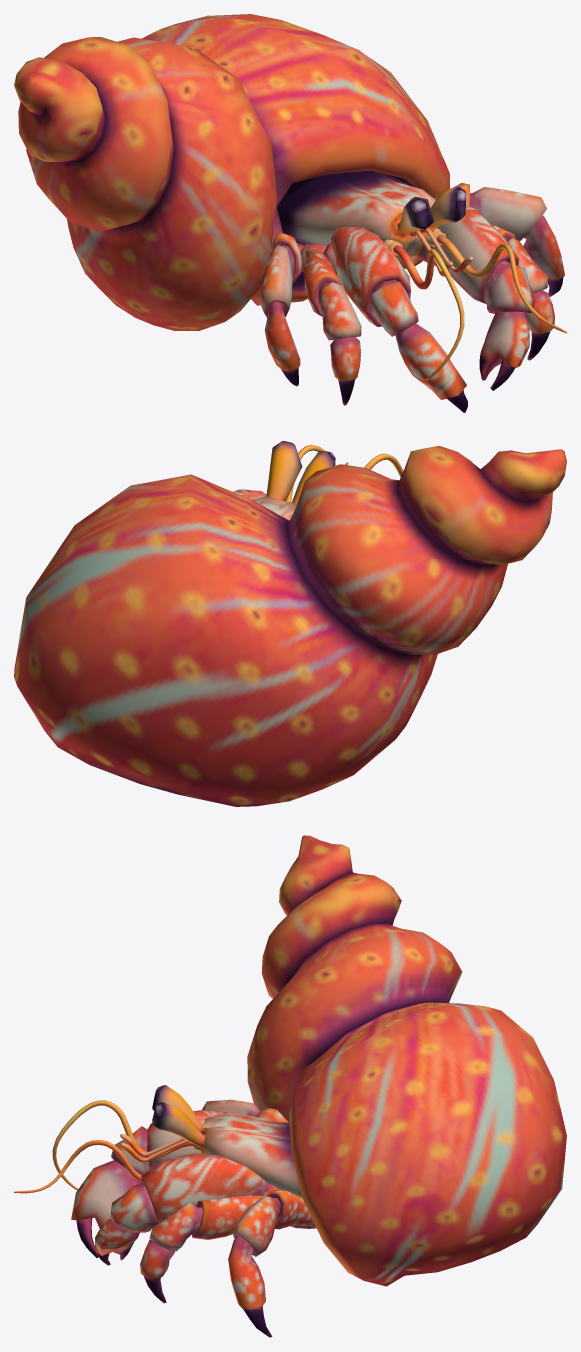
The model's file is little_hermit_crab-v2.glb.
The picture shows the model from 3 angles, top to bottom: view 1: azimuth 30°, elevation 25°; view 2: azimuth 150°, elevation 25°; view 3: azimuth 270°, elevation 25°; orthographic projection. The views are drawn at different scales.
Parts seen in each view (by area): view 1: Body_LP_Checker_0; view 2: Body_LP_Checker_0; view 3: Body_LP_Checker_0.
Boxes of the visible parts, <box> form: Body_LP_Checker_0: <box>14,14,566,412</box>; Body_LP_Checker_0: <box>14,441,566,806</box>; Body_LP_Checker_0: <box>14,835,566,1337</box>.
Bounding box in the file's own units: 2.99 × 1.83 × 3.19.
Materials: 1 (1 with a texture image).
